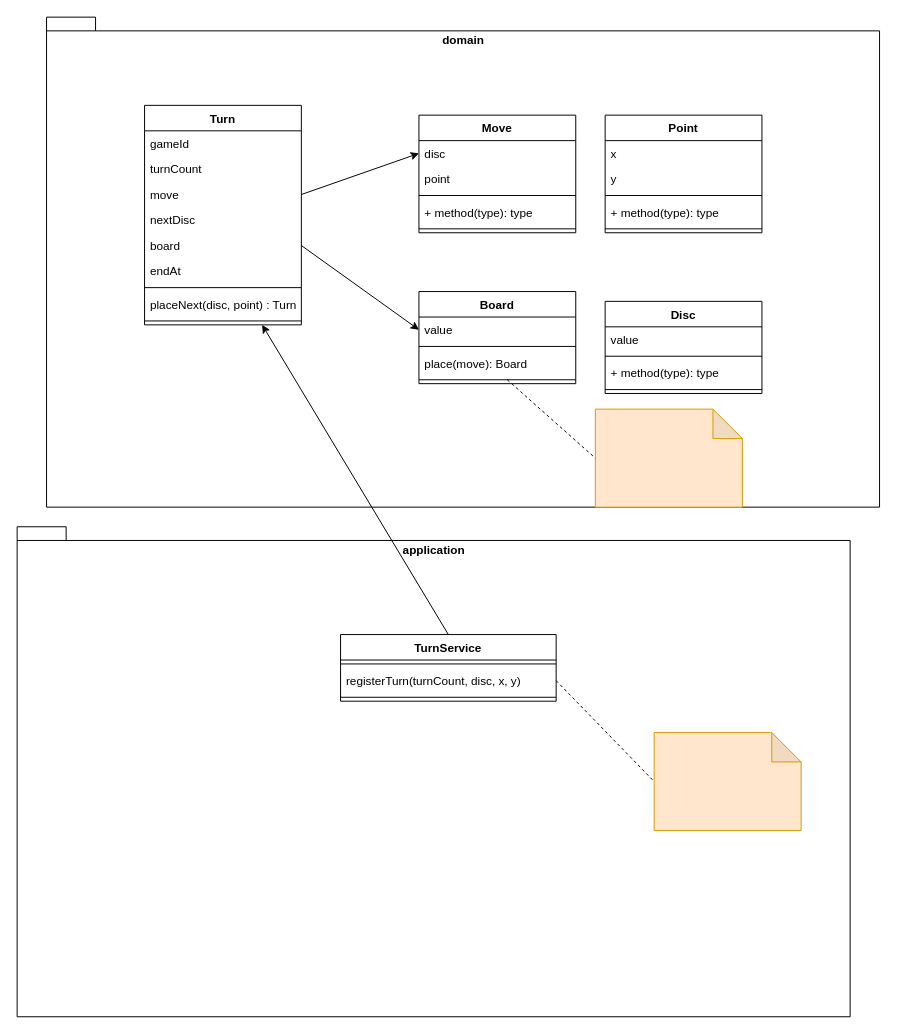
The diagram is 897 pixels wide and 1034 high, and some of its shapes have lost their labels. The shapes that lost their labels are listed below. From the top down, each one's centre as x and y in pixels, then its label:
At point 668,457: "placeの内部では 盤面に置けるかチェック 石を置く ひっくり返す".
At point 727,781: "一つ前のターンを取得する 石を置く ターンを保存する".
